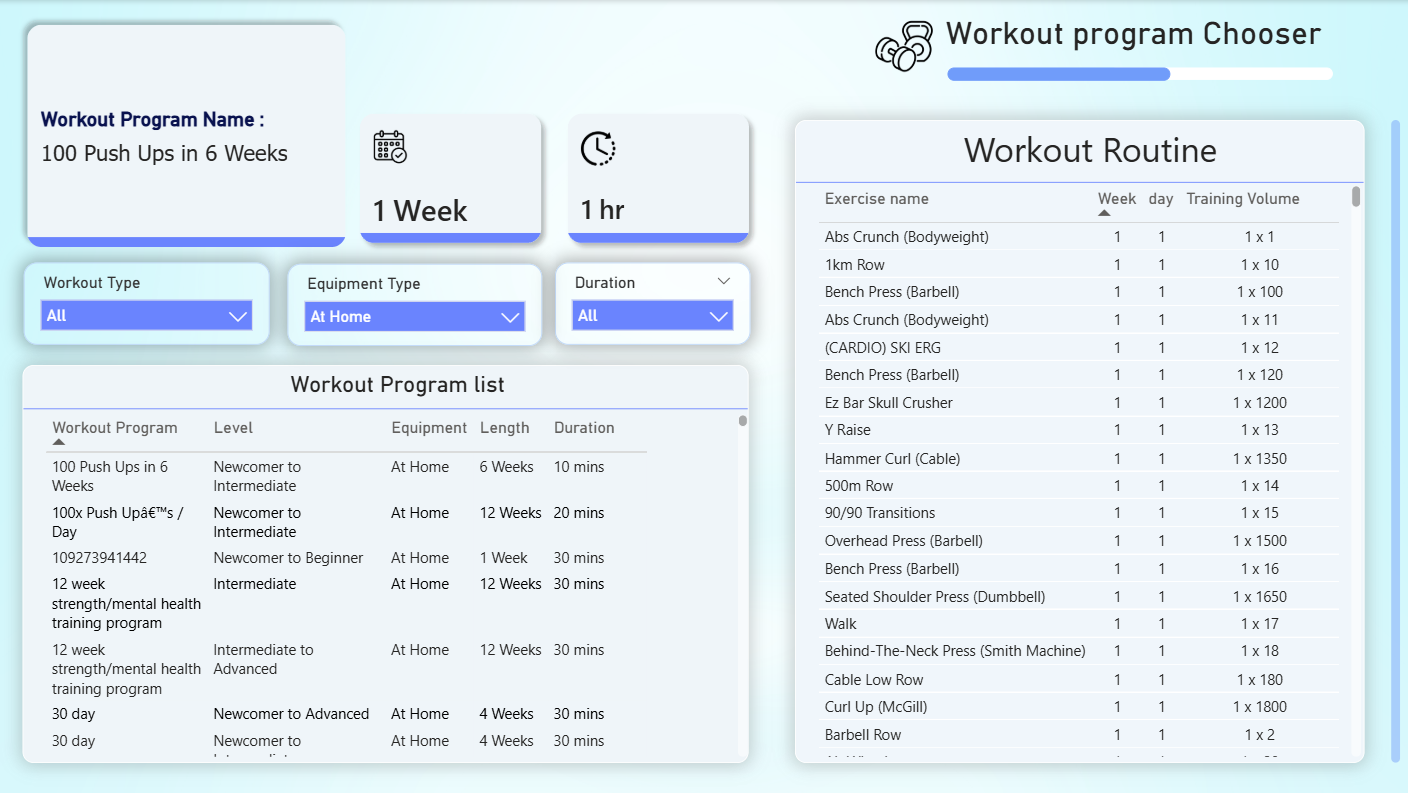

The page's visual inventory and layout, read from the dashboard file:
{"tool":"powerbi","page":{"name":"Workout Insights","canvas":[1280,720],"ordinal":0},"visuals":[{"type":"textbox","box":[837,8.2,384.7,58.9],"z":0,"group":"g2"},{"type":"tableEx","title":"Workout Program list","fields":{"Values":["Workout_program.title","Workout_program.Corrected Level","Workout_program.equipment","Workout_program.Program_length_updated","Workout_program.Workout Duration"]},"box":[20.8,330,657.1,360],"z":0},{"type":"tableEx","title":"Workout Routine","fields":{"Values":["Min(Workout_program.exercise_name)","Workout_program.week","Workout_program.day","Workout_program.Training Volume"]},"box":[718.8,108.8,515,581.2],"z":1000},{"type":"slicer","fields":{"Values":["Workout_program.Workout_Type"]},"box":[21.1,237.8,222.2,74.4],"z":2000},{"type":"slicer","fields":{"Values":["Workout_program.Workout Duration"]},"box":[502.2,237.8,176.7,74.4],"z":3000},{"type":"cardVisual","fields":{"Data":["Min(Workout_program.Program_length_updated)","Min(Workout_program.Workout Duration)"]},"box":[308.4,86,387.5,151.2],"z":4000},{"type":"cardVisual","fields":{"Data":["Min(Workout_program.title)"]},"box":[8.4,6,322.5,235],"z":5000},{"type":"shape","box":[1250,108.8,23.8,581.2],"z":6000},{"type":"group","id":"g1","title":"Group 1","box":[786.9,7.9,434.2,67.8],"z":7000},{"type":"shape","box":[1004.3,60.6,201.9,11.5],"z":7000,"group":"g1"},{"type":"group","id":"g2","title":"Top title","box":[786.9,7.9,434.8,67.6],"z":8000,"group":"g1"},{"type":"slicer","fields":{"Values":["Workout_program.equipment"]},"box":[260,238.9,230,74.4],"z":8000},{"type":"image","box":[786.9,7.9,61.9,67.6],"z":9000,"group":"g2"},{"type":"shape","box":[856.5,61,201.9,12.2],"z":11000,"group":"g2"}]}

Visuals, with their boxes in screenshot pixels (x1, y1, x2, y2), scaled from the page's 1280x720 canvas onto the 1408x793 screenshot:
textbox: [921,9,1344,74]
"Workout Program list" tableEx: [23,363,746,760]
"Workout Routine" tableEx: [791,120,1357,760]
slicer - Workout_program.Workout_Type: [23,262,268,344]
slicer - Workout_program.Workout Duration: [552,262,747,344]
cardVisual - Min(Workout_program.Program_length_updated) x Min(Workout_program.Workout Duration): [339,95,765,261]
cardVisual - Min(Workout_program.title): [9,7,364,265]
shape: [1375,120,1401,760]
"Group 1" group: [866,9,1343,83]
shape: [1105,67,1327,79]
"Top title" group: [866,9,1344,83]
slicer - Workout_program.equipment: [286,263,539,345]
image: [866,9,934,83]
shape: [942,67,1164,81]
